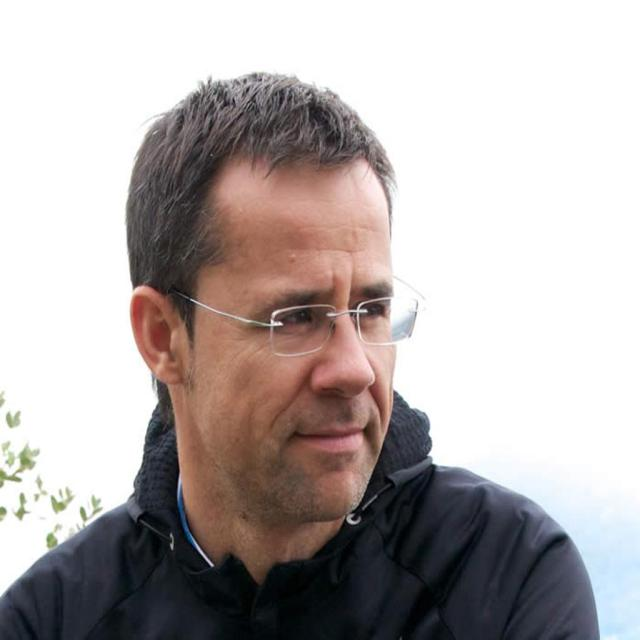Face: (188, 148, 411, 532)
